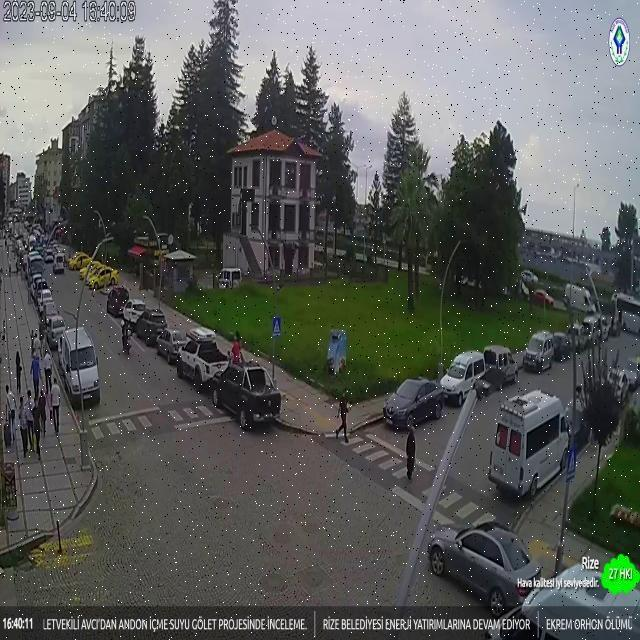Car: (424, 520, 540, 618), (518, 560, 638, 639), (210, 361, 280, 428), (381, 378, 441, 432), (177, 338, 231, 391), (483, 345, 518, 386), (524, 331, 556, 371), (156, 327, 191, 362), (135, 308, 168, 345), (609, 362, 639, 398), (578, 314, 603, 346), (44, 314, 67, 348), (106, 286, 131, 317), (550, 332, 572, 362), (122, 298, 147, 324), (216, 267, 242, 289), (30, 276, 48, 303), (37, 288, 55, 314), (28, 252, 44, 277), (52, 252, 66, 274), (521, 270, 538, 288), (44, 250, 55, 263)
Van: (481, 387, 575, 504), (57, 328, 101, 406), (439, 350, 488, 404)
